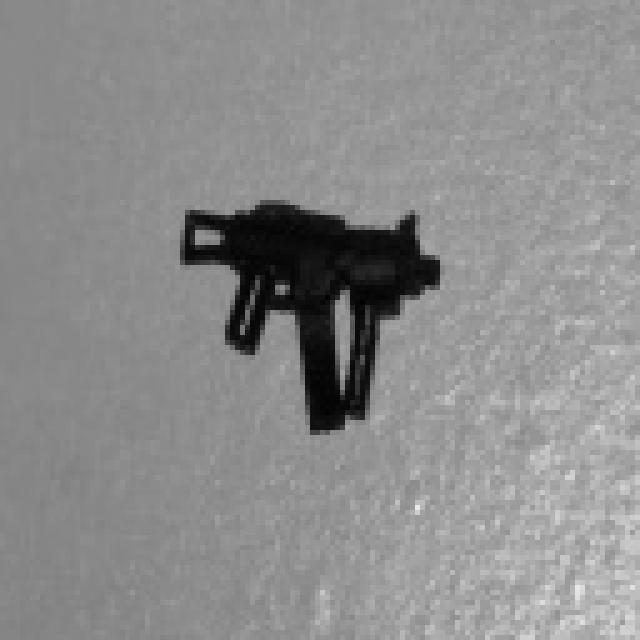Rifle: (141, 177, 489, 453)
